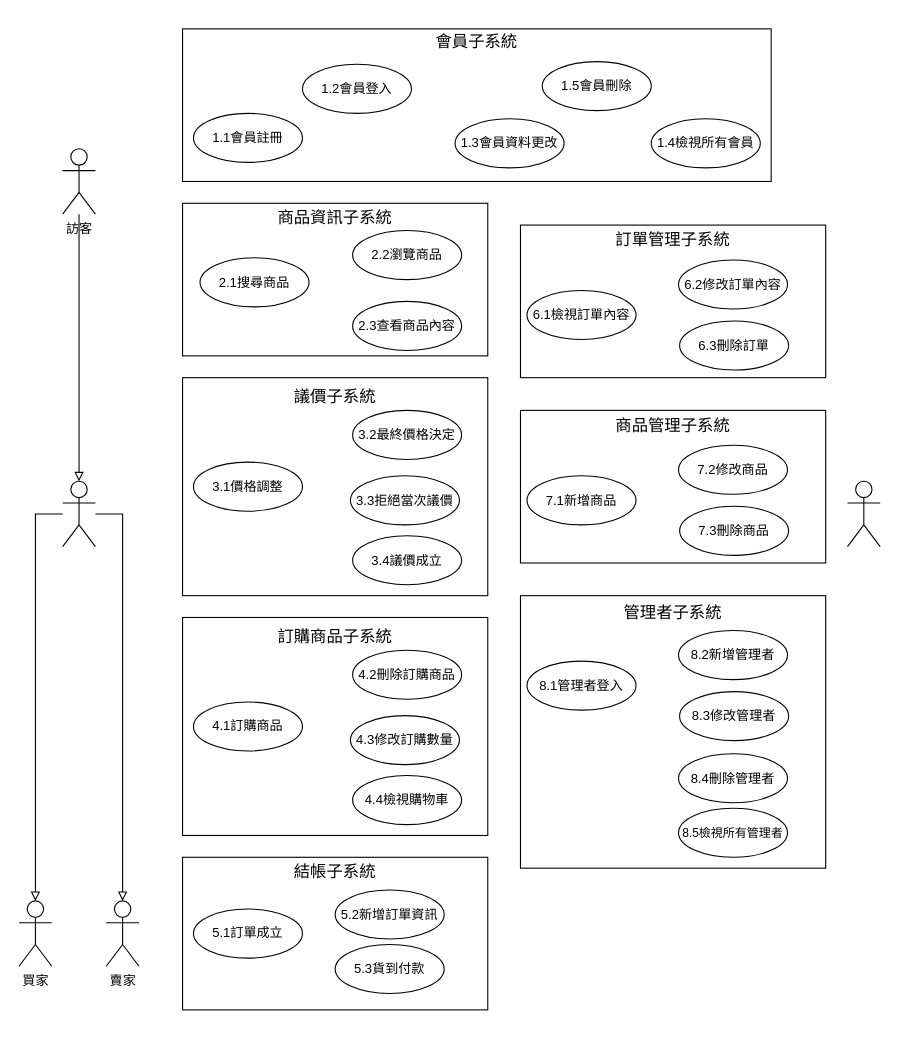
The diagram is 903 pixels wide and 1037 high, and some of its shapes have lost their labels. The shapes that lost their labels are listed below. From the top down, each one's centre as x and y in pixels, then its label:
At pixel 78 513: "會員".
At pixel 863 513: "管理員".
